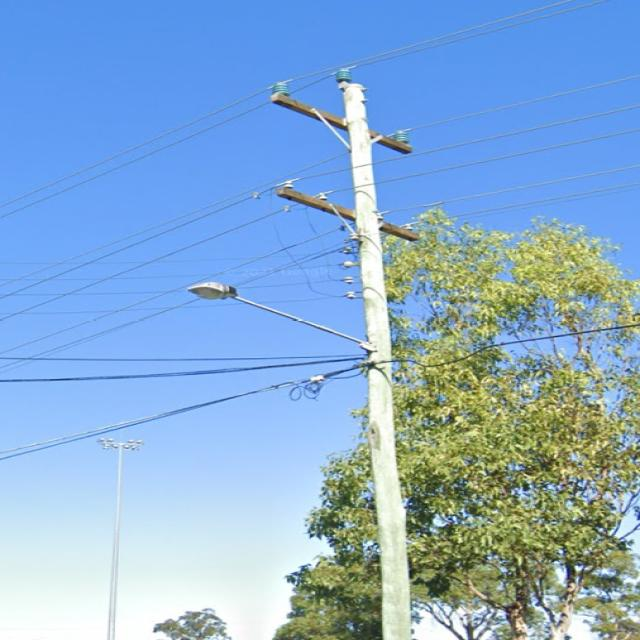HV-transmission: (270, 68, 410, 154)
crossarm: (269, 90, 411, 154), (277, 186, 416, 240)
steel-pole: (104, 433, 121, 630)
streetlight: (185, 283, 368, 350)
timber-pole: (339, 81, 411, 638)
